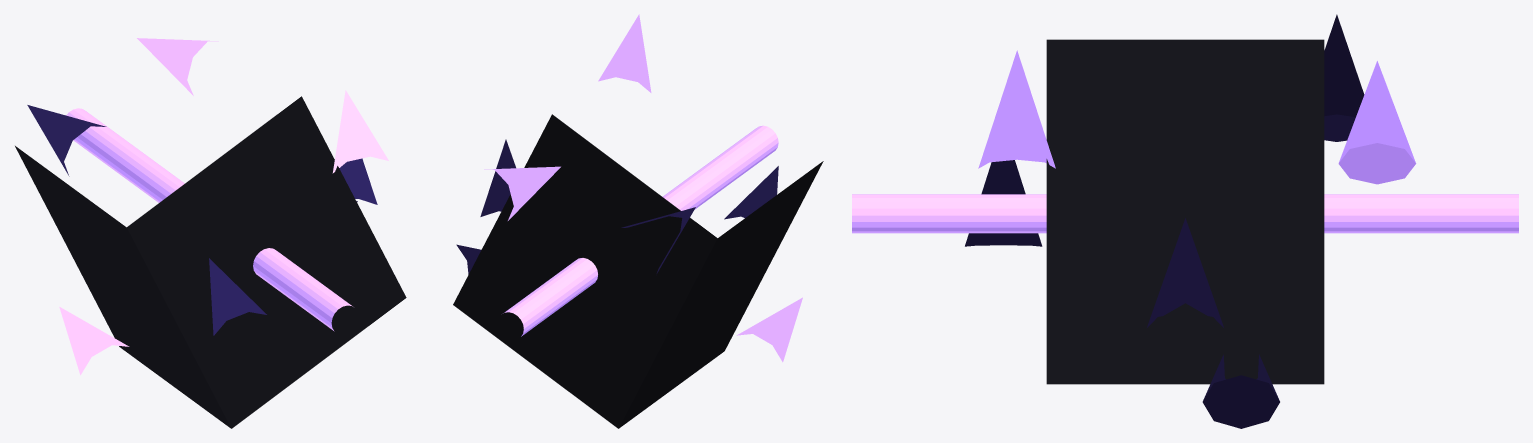
Rendered from enigma.glb.
The picture shows the model from 3 angles, left to right: view 1: azimuth 30°, elevation 25°; view 2: azimuth 150°, elevation 25°; view 3: azimuth 270°, elevation 25°; orthographic projection. The views are drawn at different scales.
Visible parts, largest first — view 1: enigma-void-core, enigma-event-ring, enigma-star-1, enigma-star-2, enigma-star-3, enigma-star-5, enigma-star-4, enigma-star-0; view 2: enigma-void-core, enigma-event-ring, enigma-star-1, enigma-star-3, enigma-star-5, enigma-star-0, enigma-star-2, enigma-star-4; view 3: enigma-void-core, enigma-event-ring, enigma-star-5, enigma-star-1, enigma-star-6, enigma-star-4, enigma-star-0, enigma-star-2.
Part boxes in pixels (left/top/right/bottom): enigma-void-core: left=15, top=96, right=406, bottom=428; enigma-event-ring: left=66, top=108, right=352, bottom=331; enigma-star-1: left=332, top=90, right=388, bottom=173; enigma-star-2: left=209, top=258, right=266, bottom=335; enigma-star-3: left=59, top=307, right=129, bottom=375; enigma-star-5: left=137, top=38, right=218, bottom=95; enigma-star-4: left=27, top=105, right=106, bottom=176; enigma-star-0: left=339, top=158, right=377, bottom=204; enigma-void-core: left=453, top=114, right=823, bottom=428; enigma-event-ring: left=503, top=125, right=778, bottom=336; enigma-star-1: left=598, top=14, right=651, bottom=92; enigma-star-3: left=736, top=297, right=802, bottom=362; enigma-star-5: left=484, top=166, right=560, bottom=220; enigma-star-0: left=480, top=139, right=515, bottom=216; enigma-star-2: left=724, top=166, right=778, bottom=219; enigma-star-4: left=621, top=207, right=695, bottom=273; enigma-void-core: left=1046, top=39, right=1324, bottom=384; enigma-event-ring: left=852, top=194, right=1518, bottom=233; enigma-star-5: left=1338, top=61, right=1416, bottom=184; enigma-star-1: left=978, top=50, right=1055, bottom=168; enigma-star-6: left=1202, top=354, right=1279, bottom=428; enigma-star-4: left=1324, top=14, right=1364, bottom=141; enigma-star-0: left=1147, top=218, right=1223, bottom=327; enigma-star-2: left=965, top=160, right=1042, bottom=246.
Bounding box in the file's own units: 0.8921 × 0.7936 × 1.2.
